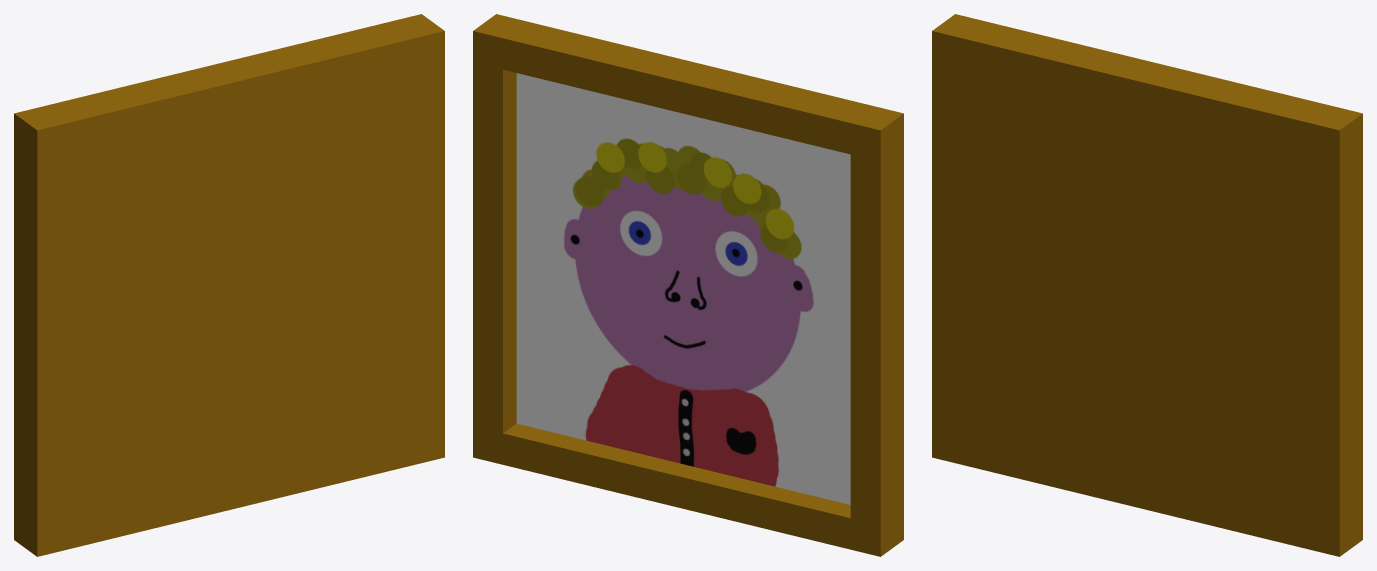
File: Medium_Pictureframe.fbx
The picture shows the model from 3 angles, left to right: view 1: azimuth 30°, elevation 25°; view 2: azimuth 150°, elevation 25°; view 3: azimuth 330°, elevation 25°; orthographic projection.
Visible parts, largest first — view 1: Cube.069; view 2: Cube.069; view 3: Cube.069.
Boxes of the visible parts, x1=… form: Cube.069: x1=14, y1=14, x2=444, y2=556; Cube.069: x1=473, y1=14, x2=903, y2=556; Cube.069: x1=932, y1=14, x2=1362, y2=556.
Size of the model in its own units: 78.49 by 78.49 by 7.75.
